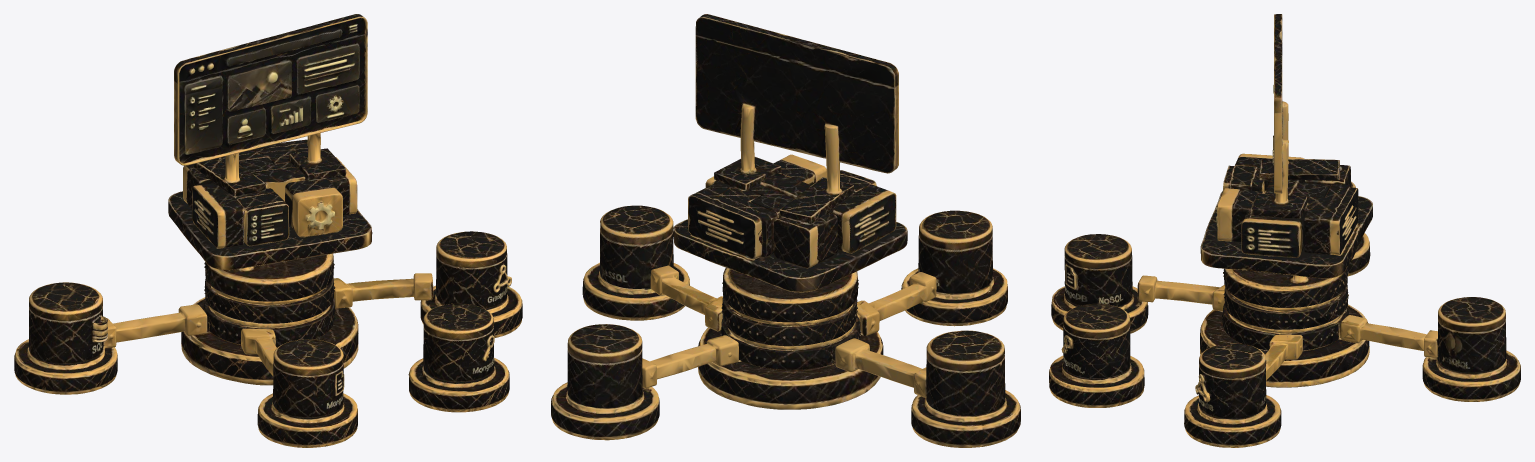
Rendered from systems-sculpture-b70b47a62f.glb.
3 renders of one model, left to right at view 1: azimuth 30°, elevation 25°; view 2: azimuth 150°, elevation 25°; view 3: azimuth 270°, elevation 25°, orthographic. The views are drawn at different scales.
Parts seen in each view (by area): view 1: Display, Foundation, Data centre, Data right, Core, Data left, Bridge; view 2: Display, Foundation, Data centre, Core, Data left, Data right, Bridge; view 3: Data centre, Data right, Foundation, Core, Bridge, Display.
Boxes of the visible parts, x1,y1,x2,y2 form: Display: (174, 14, 367, 165); Foundation: (14, 285, 522, 447); Data centre: (186, 253, 432, 417); Data right: (334, 231, 511, 381); Core: (168, 157, 372, 270); Data left: (28, 282, 315, 418); Bridge: (184, 133, 346, 214); Display: (695, 14, 898, 173); Foundation: (551, 262, 1020, 447); Data centre: (609, 210, 981, 409); Core: (673, 170, 907, 292); Data left: (845, 216, 1005, 416); Data right: (566, 205, 722, 409); Bridge: (689, 141, 895, 232); Data centre: (1064, 242, 1495, 349); Data right: (1061, 301, 1506, 418); Foundation: (1049, 233, 1520, 447); Core: (1200, 164, 1372, 278); Bridge: (1217, 137, 1357, 222); Display: (1272, 14, 1288, 193).
Size of the model in its own units: 3.7 by 2.49 by 3.53.
Materials: 2 (1 with a texture image).
